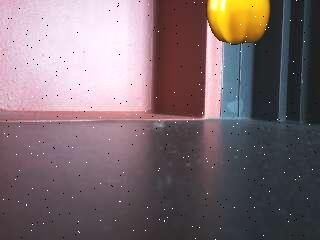Capsicum: (205, 0, 272, 46)
